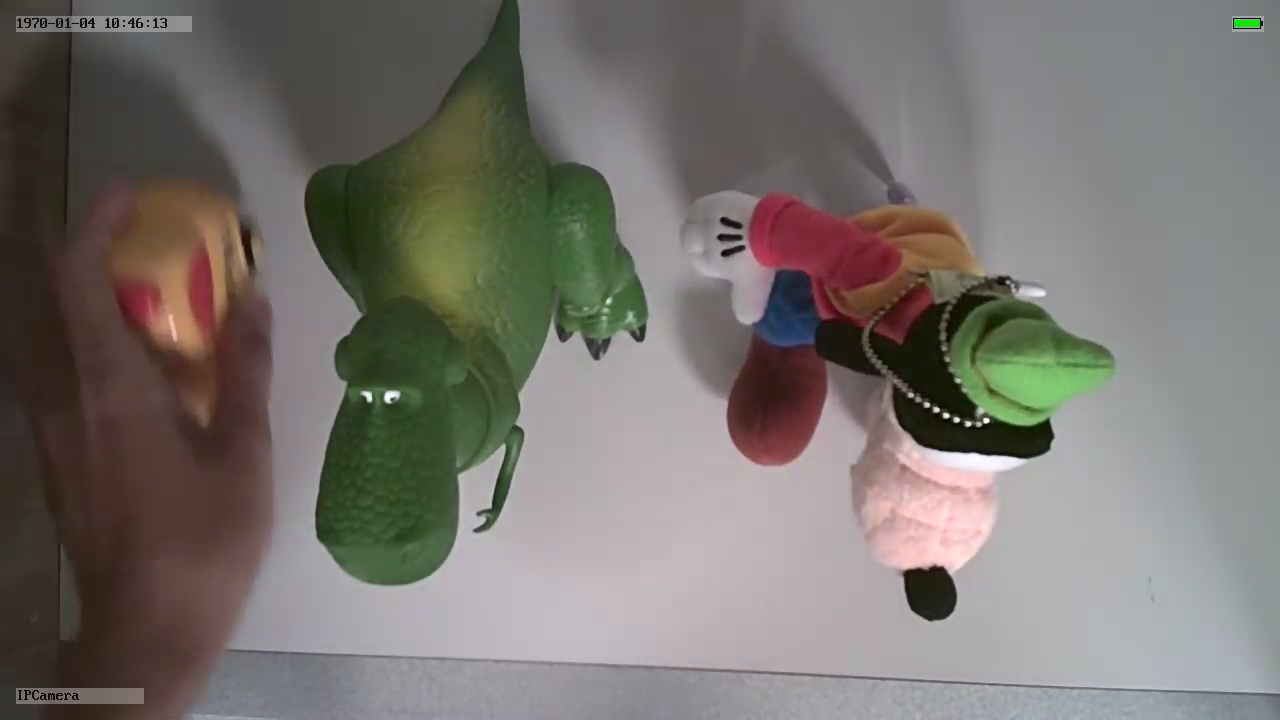goofy: (675, 182, 1123, 629)
